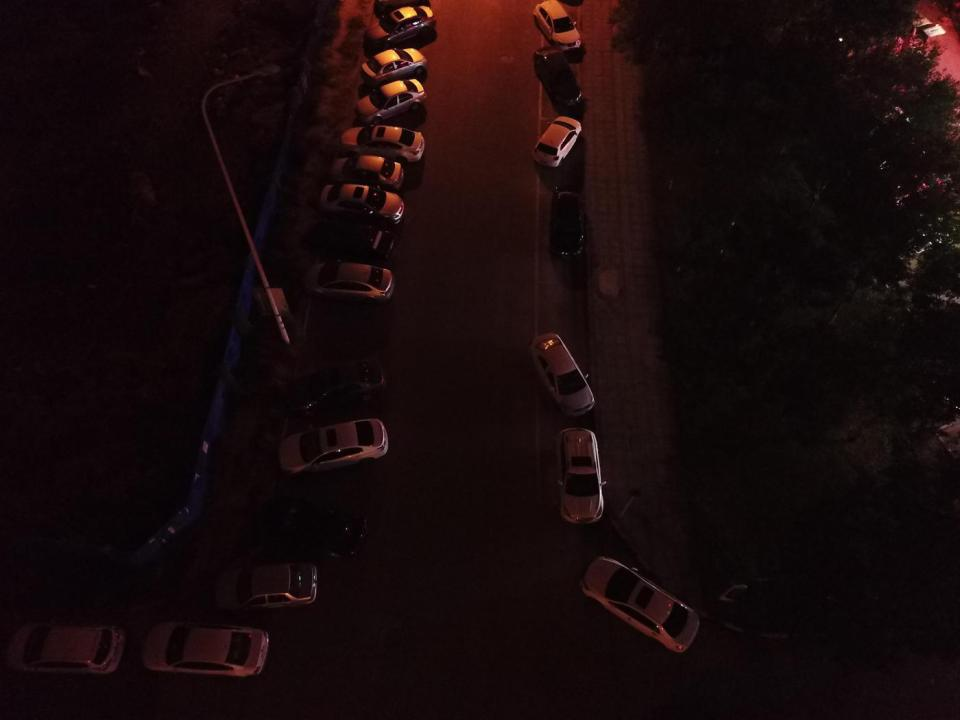car: (578, 554, 704, 656), (138, 615, 273, 683), (241, 492, 370, 560), (0, 618, 125, 686), (277, 418, 390, 477), (276, 358, 390, 414), (545, 424, 606, 528), (527, 330, 596, 418), (213, 558, 323, 612), (301, 257, 396, 309), (307, 219, 397, 264), (336, 122, 426, 165), (320, 182, 402, 226), (528, 45, 586, 107), (354, 79, 427, 125), (362, 4, 434, 48), (328, 153, 404, 193), (361, 44, 430, 88), (530, 110, 583, 166), (550, 181, 587, 261), (534, 1, 587, 50)
van: (885, 2, 947, 61)
